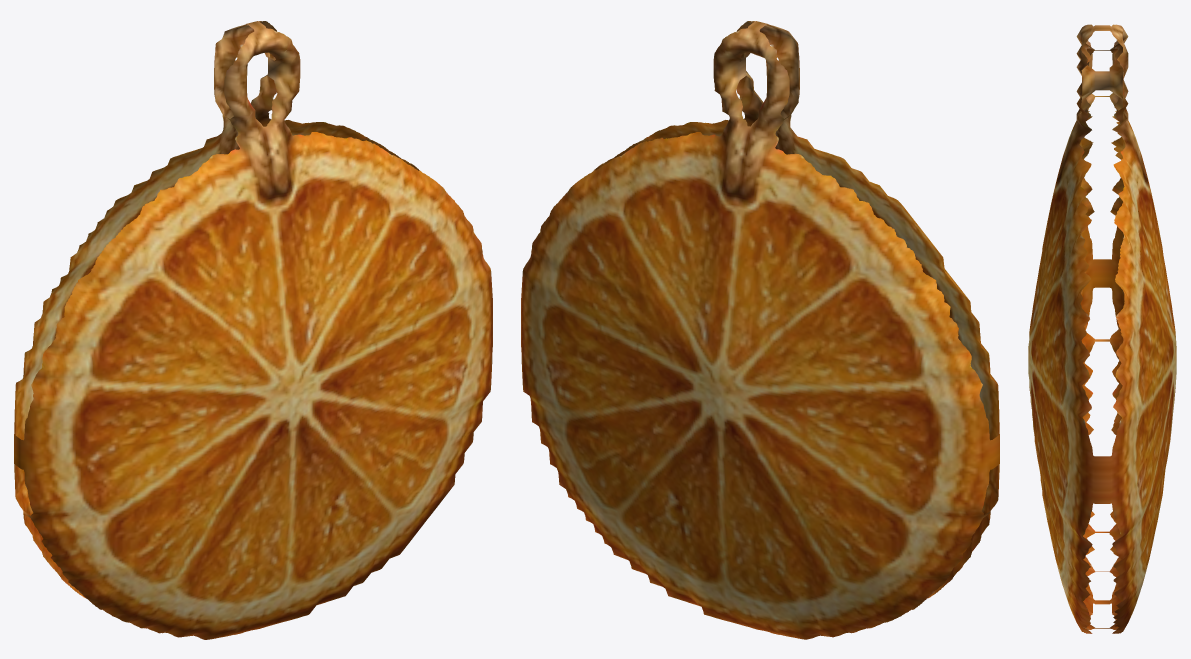
Rendered from Item_orange.glb.
3 renders of one model, left to right at view 1: azimuth 30°, elevation 25°; view 2: azimuth 150°, elevation 25°; view 3: azimuth 270°, elevation 25°, orthographic. The views are drawn at different scales.
Parts seen in each view (by area): view 1: Item_orange carving; view 2: Item_orange carving; view 3: Item_orange carving.
Part boxes in pixels (box(x1,y1,x2,y2)): Item_orange carving: box(14, 21, 492, 639); Item_orange carving: box(521, 21, 999, 639); Item_orange carving: box(1028, 24, 1176, 633).
Size of the model in its own units: 0.2197 by 0.2681 by 0.0615.
Materials: 1 (1 with a texture image).
